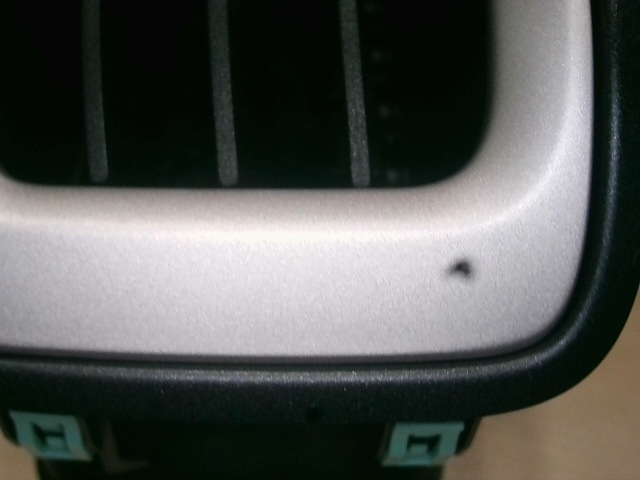NG: (492, 300, 524, 328)
